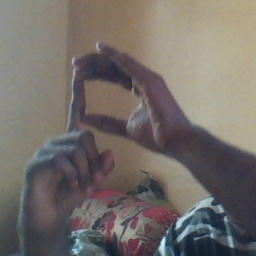P: (27, 40, 164, 187)
